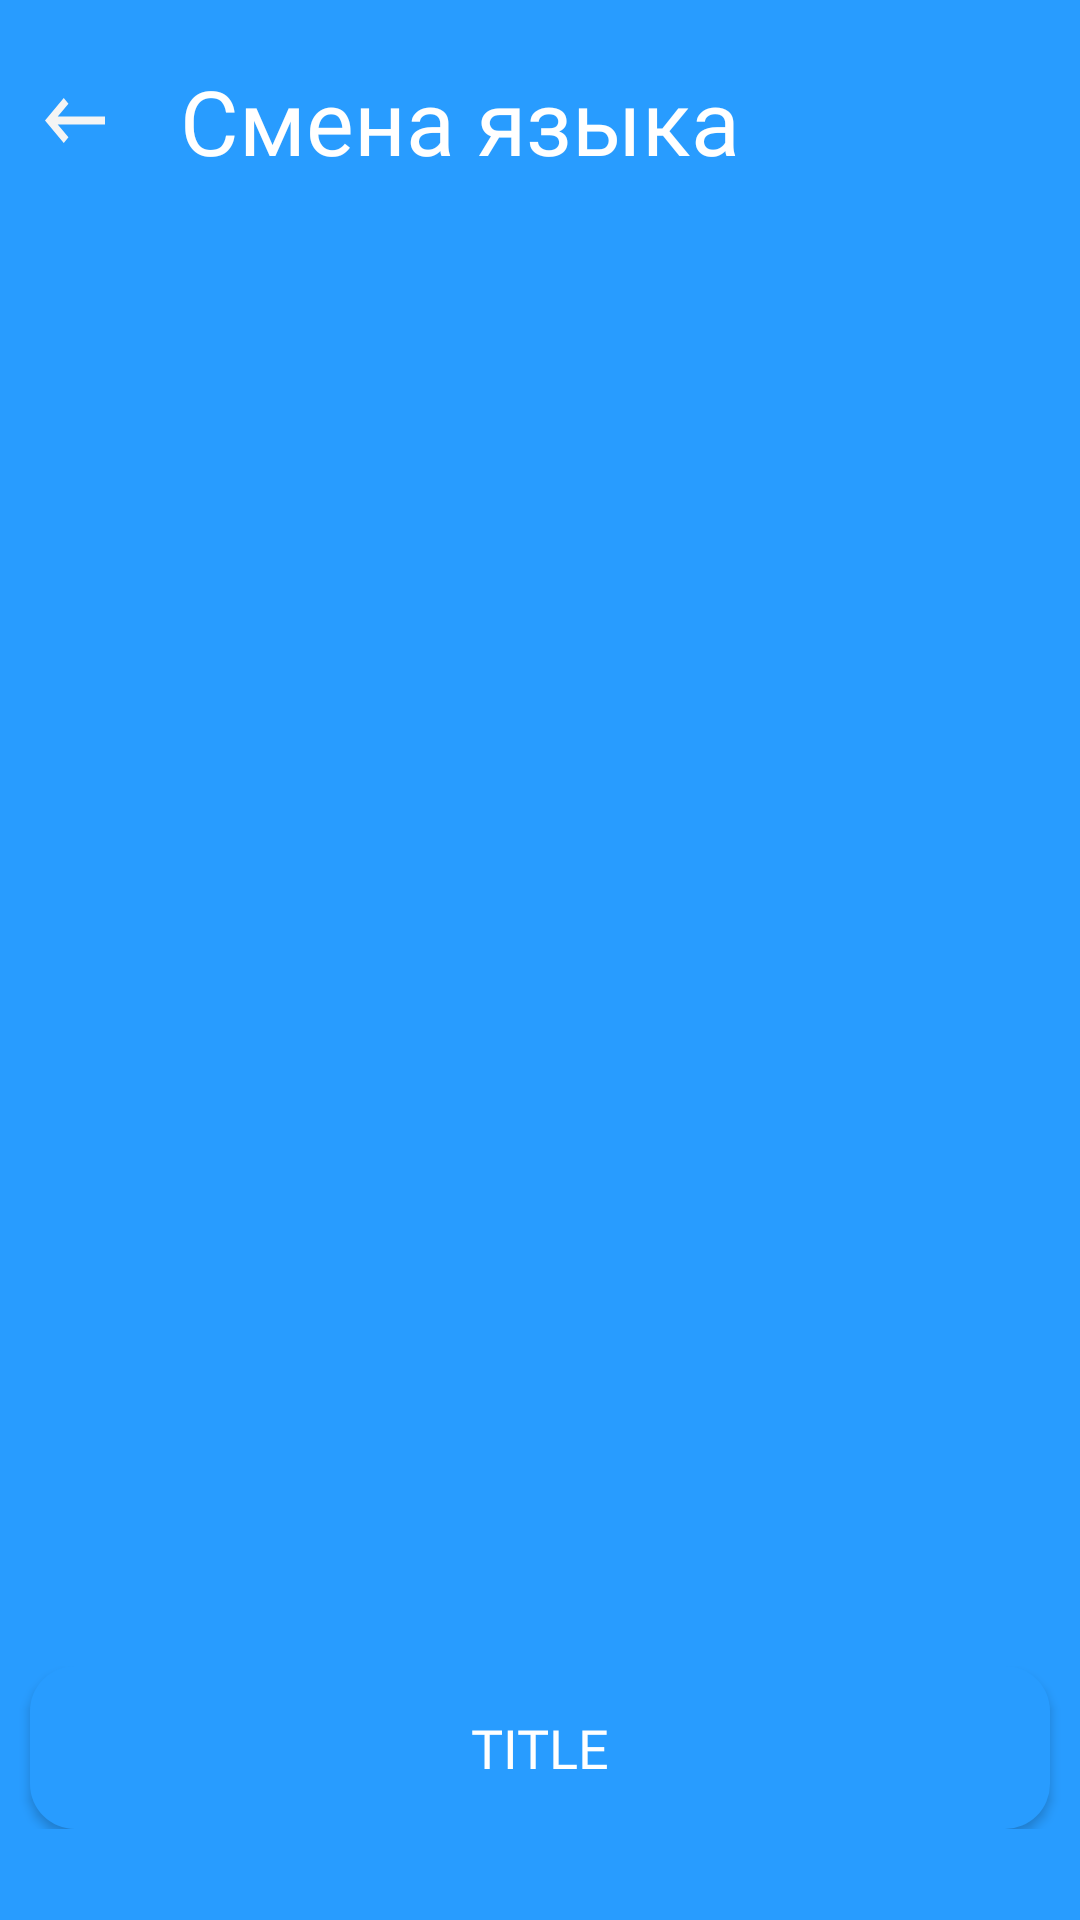

Icon click points for this 1080×1920 phone screenshot, format (x=x, y=y):
arrow back: (x=75, y=120)
